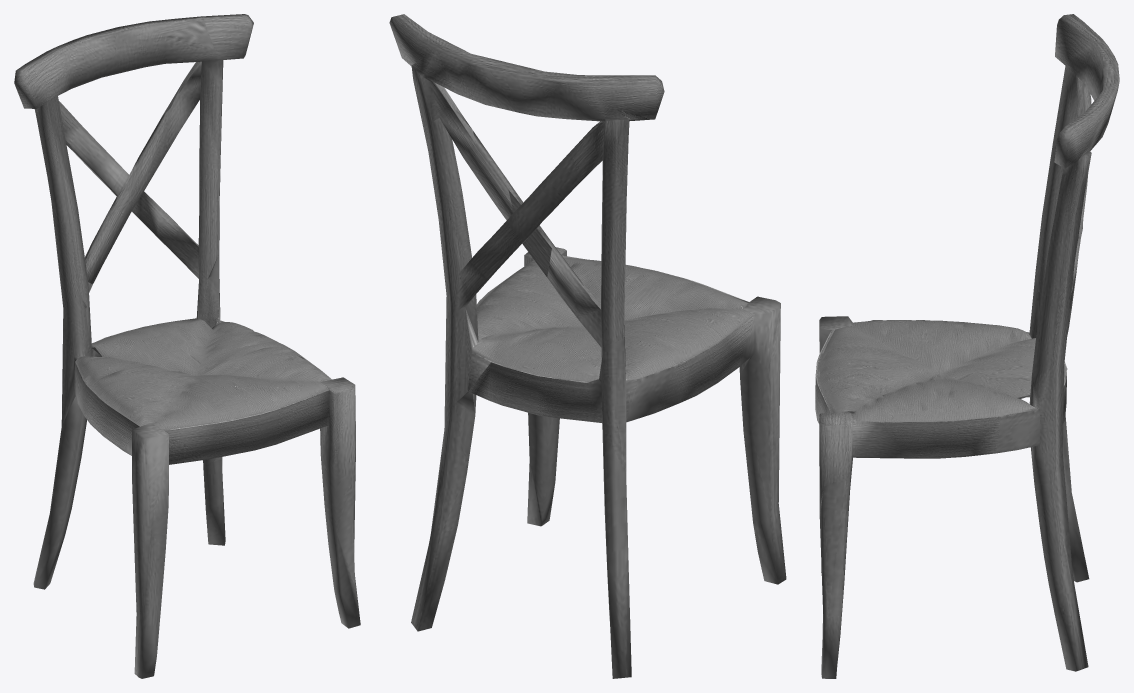
Rendered from crossback.glb.
3 renders of one model, left to right at view 1: azimuth 30°, elevation 25°; view 2: azimuth 150°, elevation 25°; view 3: azimuth 270°, elevation 25°, orthographic. The views are drawn at different scales.
Parts seen in each view (by area): view 1: frame, seat; view 2: frame, seat; view 3: frame, seat.
Part boxes in pixels (left/top/right/bottom): frame: left=14, top=14, right=360, bottom=678; seat: left=75, top=284, right=331, bottom=430; frame: left=389, top=14, right=786, bottom=678; seat: left=465, top=255, right=753, bottom=413; frame: left=815, top=14, right=1119, bottom=678; seat: left=815, top=320, right=1066, bottom=422.
Size of the model in its own units: 0.44 by 0.92 by 0.46.
Materials: 2 (2 with a texture image).
